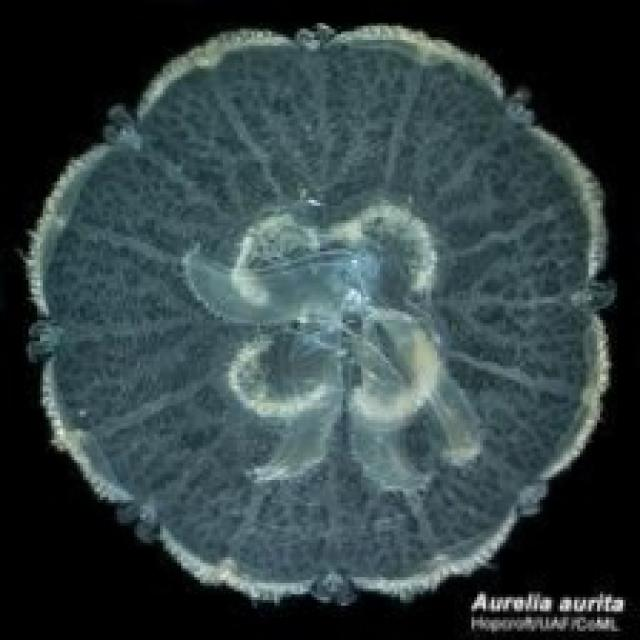Moon-jellyfish: (20, 20, 617, 609)
